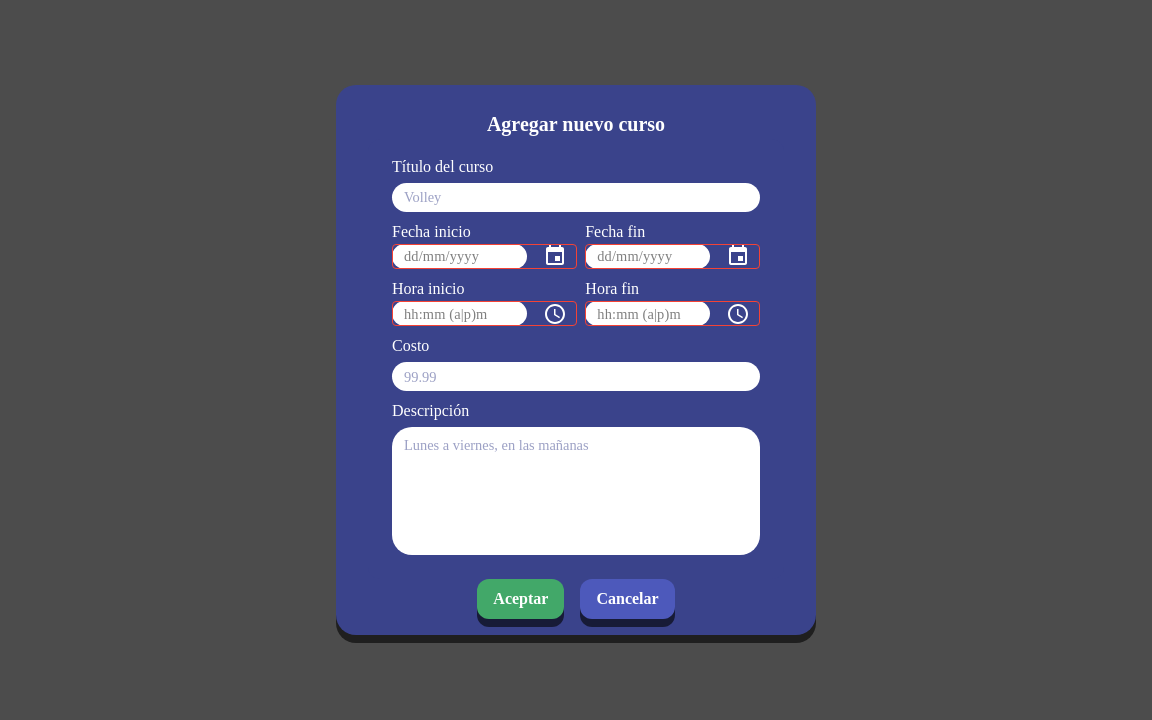
Show a warning when the user does not enter a course title
Click the button "Aceptar". click: click(521, 599)
box: [477,579,564,619]
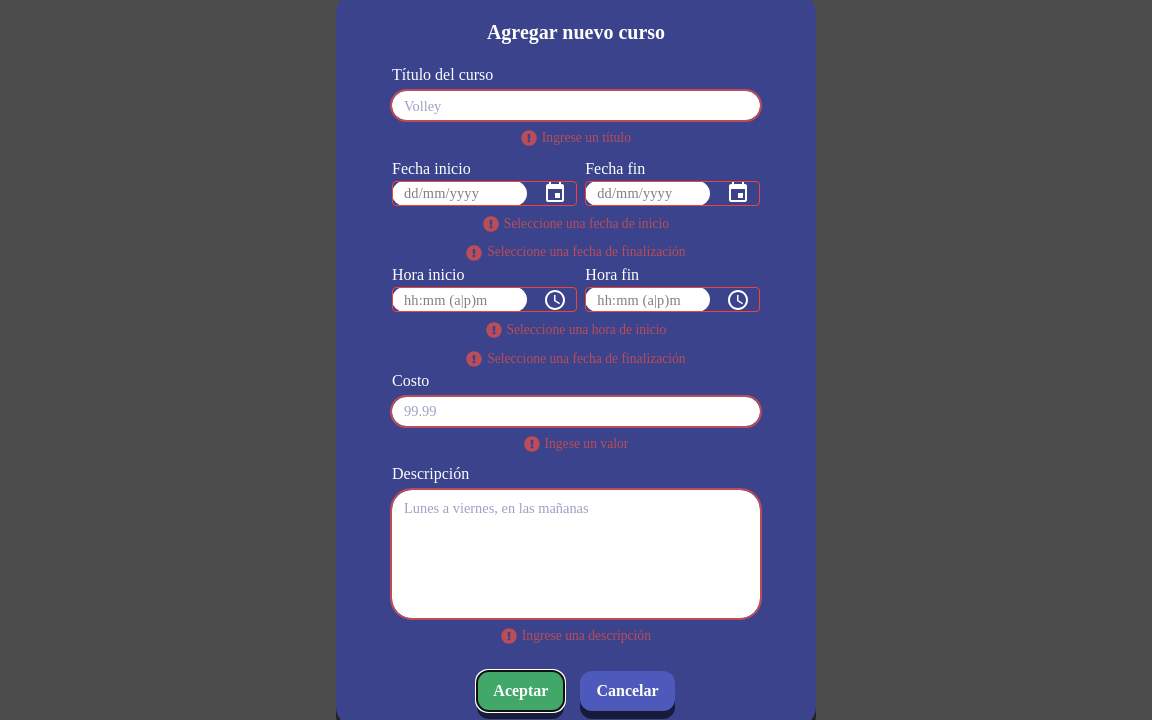
Expected: the text "Ingrese un título" is shown, [542,128,631,149]
